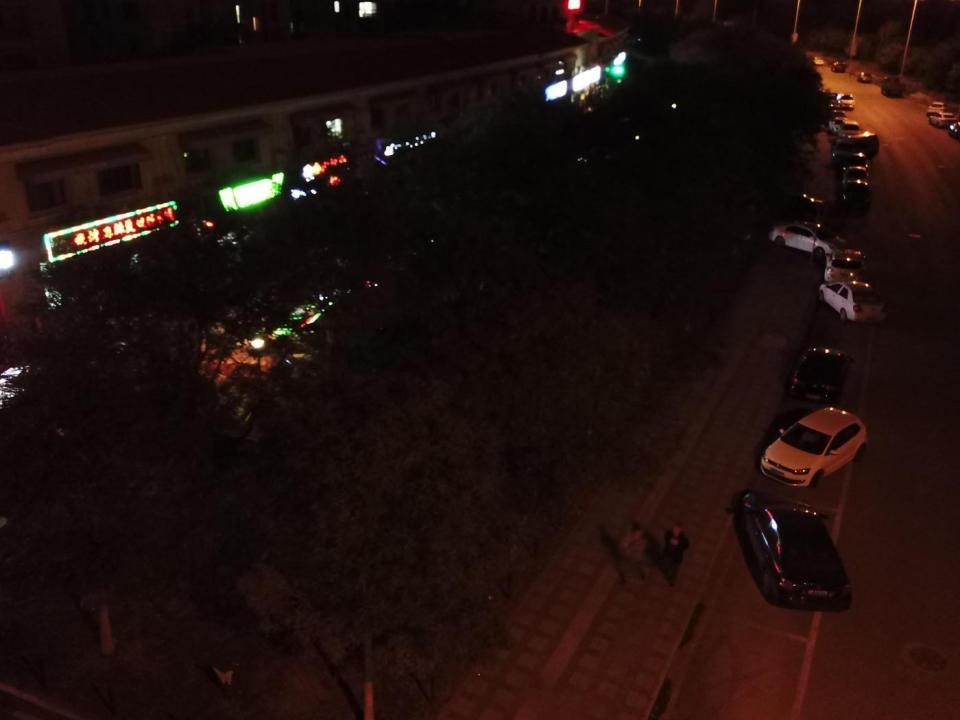car: (732, 483, 854, 612), (761, 406, 868, 483), (786, 342, 854, 404), (817, 277, 892, 326), (768, 219, 848, 258), (766, 188, 837, 219), (824, 248, 871, 288), (840, 179, 873, 210), (839, 164, 870, 187), (846, 151, 873, 172), (838, 118, 863, 137), (928, 112, 958, 127), (837, 90, 855, 111), (826, 108, 848, 123), (926, 102, 948, 117), (830, 116, 848, 133), (823, 101, 841, 118), (829, 60, 849, 74), (856, 70, 872, 84), (824, 92, 840, 105), (811, 55, 824, 66)
truck: (880, 75, 905, 98)
van: (832, 132, 880, 154)
